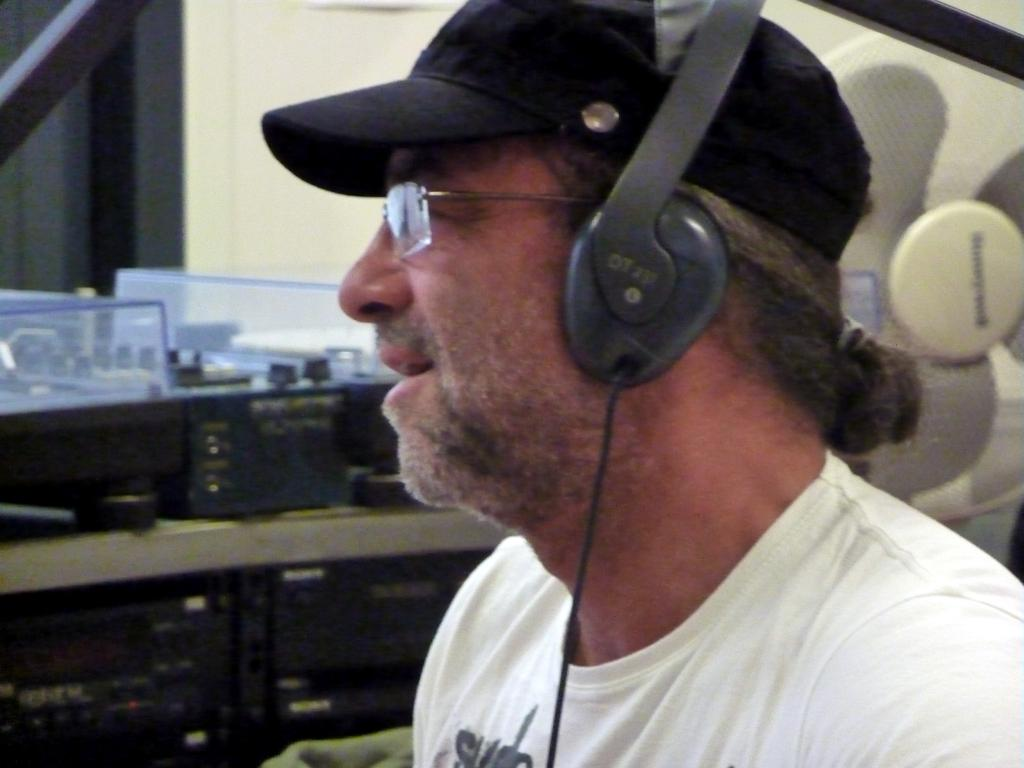Hat: (262, 0, 872, 266)
